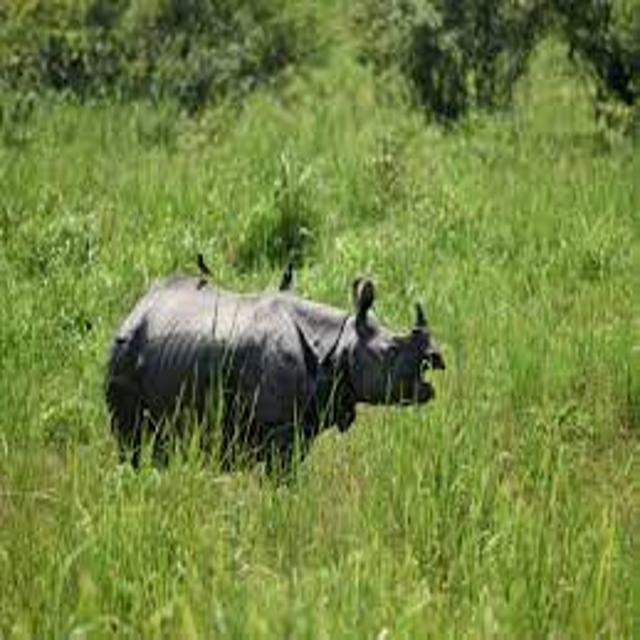Rinoceros: (64, 227, 479, 510)
